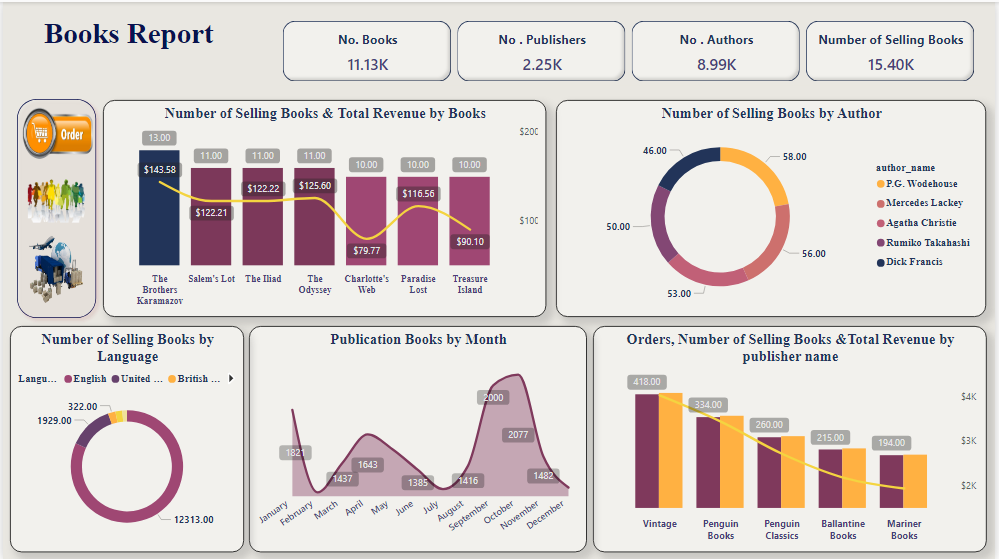

The dashboard page shown, as its layout file describes it:
{"tool":"powerbi","page":{"name":"Books","canvas":[1280,720],"ordinal":2},"visuals":[{"type":"cardVisual","fields":{"Data":["Dax.No. Books","Dax.No . Publishers","Dax.No . Authors","Dax.Number of Selling Books"]},"box":[363.9,14.2,904.5,89],"z":0},{"type":"donutChart","title":"Number of Selling Books by Author ","fields":{"Category":["Book_Dim.author_name"],"Y":["Dax.Number of Selling Books"]},"box":[713.7,125.9,554.9,280.3],"z":1000},{"type":"lineClusteredColumnComboChart","title":"Number of Selling Books & Total Revenue by Books","fields":{"Category":["Book_Dim.Title"],"Y":["Dax.Number of Selling Books"],"Y2":["Dax.Total Revenue"]},"box":[128.7,125.9,572.1,280.3],"z":2000},{"type":"lineClusteredColumnComboChart","title":"Orders, Number of Selling Books &Total Revenue by publisher name","fields":{"Category":["Book_Dim.publisher_nam"],"Y":["Dax.No . Orders","Dax.Number of Selling Books"],"Y2":["Dax.Total Revenue"]},"box":[760.8,417.6,507.7,291.8],"z":3000},{"type":"stackedAreaChart","title":" Publication Books by Month","fields":{"Y":["CountNonNull(Book_Dim.Title)"],"Category":["Book_Dim.publication_date.Variation.Date Hierarchy.Month"]},"box":[317.5,417.6,436.2,291.8],"z":4000},{"type":"donutChart","title":"Number of Selling Books by Language ","fields":{"Category":["Book_Dim.Language_name"],"Y":["Dax.Number of Selling Books"]},"box":[8.6,417.6,301.8,291.8],"z":5000},{"type":"shape","box":[8.6,116.6,120.2,300.6],"z":6000},{"type":"image","title":"shappimg","box":[27.2,294.6,82.9,100.1],"z":7000},{"type":"textbox","box":[0,14.3,324.6,68.6],"z":8000},{"type":"image","box":[27.2,190.2,82.9,100.1],"z":9000},{"type":"image","title":"orders","box":[20,131.6,101.5,78.7],"z":10000}]}

Visuals, with their boxes in screenshot pixels (x1, y1, x2, y2), scaled from the page's 1280x720 canvas onto the 999x559 screenshot:
cardVisual - Dax.No. Books x Dax.No . Publishers: 284/11/990/80
"Number of Selling Books by Author " donutChart: 557/98/990/315
"Number of Selling Books & Total Revenue by Books" lineClusteredColumnComboChart: 100/98/547/315
"Orders, Number of Selling Books &Total Revenue by publisher name" lineClusteredColumnComboChart: 594/324/990/551
" Publication Books by Month" stackedAreaChart: 248/324/588/551
"Number of Selling Books by Language " donutChart: 7/324/242/551
shape: 7/91/101/324
"shappimg" image: 21/229/86/306
textbox: 0/11/253/64
image: 21/148/86/225
"orders" image: 16/102/95/163
